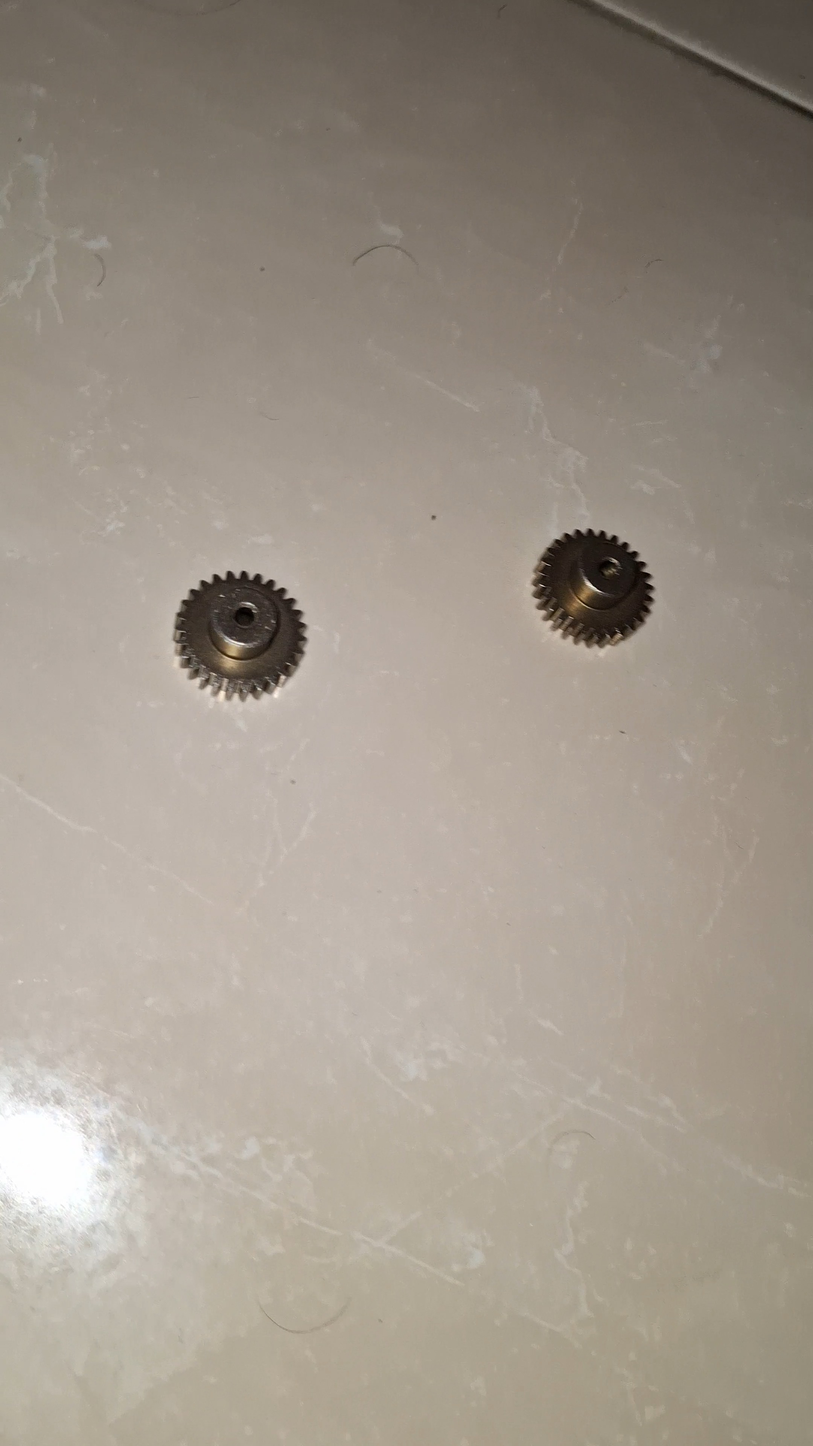spur gear: (174, 571, 305, 697), (533, 530, 653, 646)
